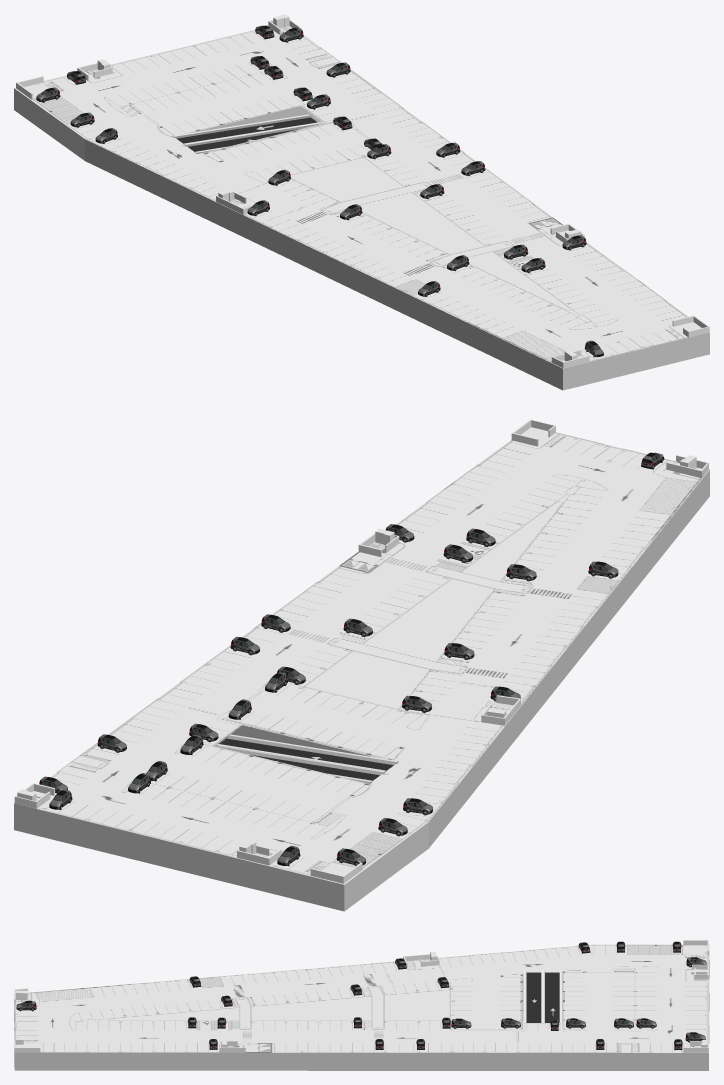
File: Deira RF 2.glb
The picture shows the model from 3 angles, top to bottom: view 1: azimuth 30°, elevation 25°; view 2: azimuth 150°, elevation 25°; view 3: azimuth 270°, elevation 25°; orthographic projection. The views are drawn at different scales.
Parts seen in each view (by area): view 1: BOOLEON, ramp, ramp 2; view 2: BOOLEON, ramp 2, ramp; view 3: BOOLEON, ramp 2, ramp, Cube.041, Cube.034, Cube.050, Cube.045.
Part boxes in pixels (box(x1,y1,x2,y2)): BOOLEON: box(14, 26, 709, 390); ramp: box(173, 114, 318, 145); ramp 2: box(185, 122, 323, 153); BOOLEON: box(14, 427, 709, 911); ramp 2: box(215, 734, 398, 771); ramp: box(218, 746, 385, 783); BOOLEON: box(14, 944, 709, 1070); ramp 2: box(523, 970, 543, 1022); ramp: box(542, 970, 562, 1022); Cube.041: box(403, 954, 439, 967); Cube.034: box(683, 1041, 708, 1052); Cube.050: box(14, 1039, 40, 1052); Cube.045: box(220, 1040, 245, 1052).
Size of the model in its own units: 0.2902 by 0.032 by 0.7843.
Materials: 7 (3 with a texture image).
